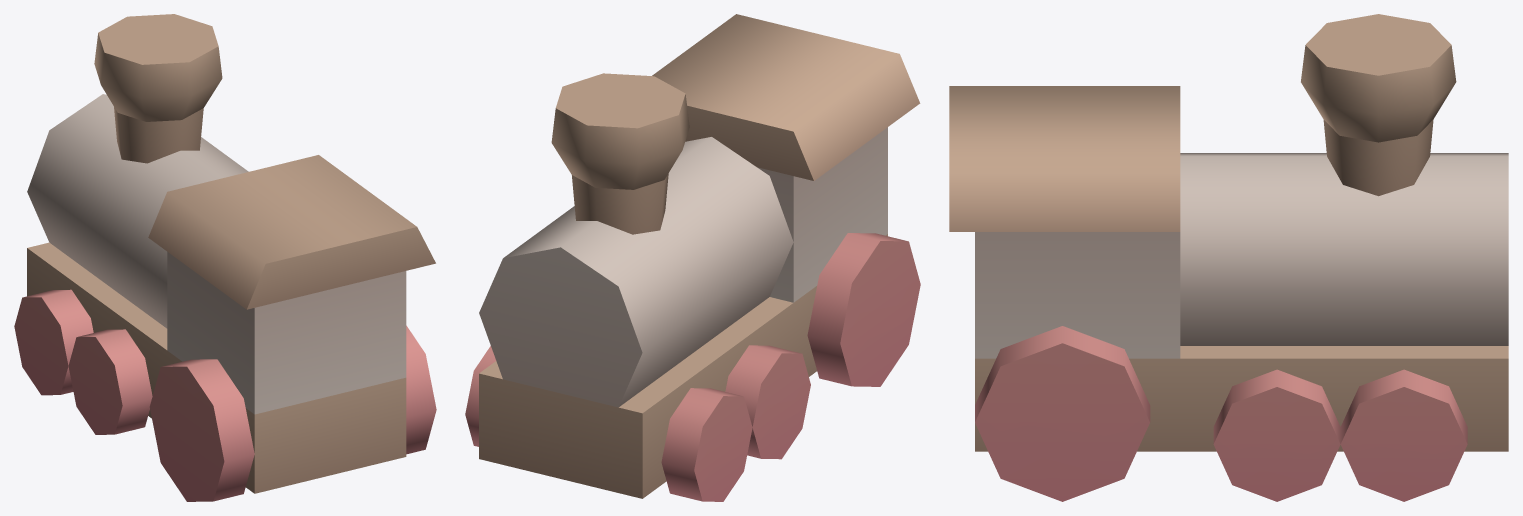
The model's file is toy-train-a-large.glb.
3 renders of one model, left to right at view 1: azimuth 30°, elevation 25°; view 2: azimuth 150°, elevation 25°; view 3: azimuth 270°, elevation 25°, orthographic. The views are drawn at different scales.
Parts seen in each view (by area): view 1: toy-train-a-large; view 2: toy-train-a-large; view 3: toy-train-a-large.
Boxes of the visible parts, x1,y1,x2,y2 form: toy-train-a-large: (14,14,436,501); toy-train-a-large: (465,14,920,501); toy-train-a-large: (949,14,1508,501).
Size of the model in its own units: 0.07 by 0.1065 by 0.1362.
